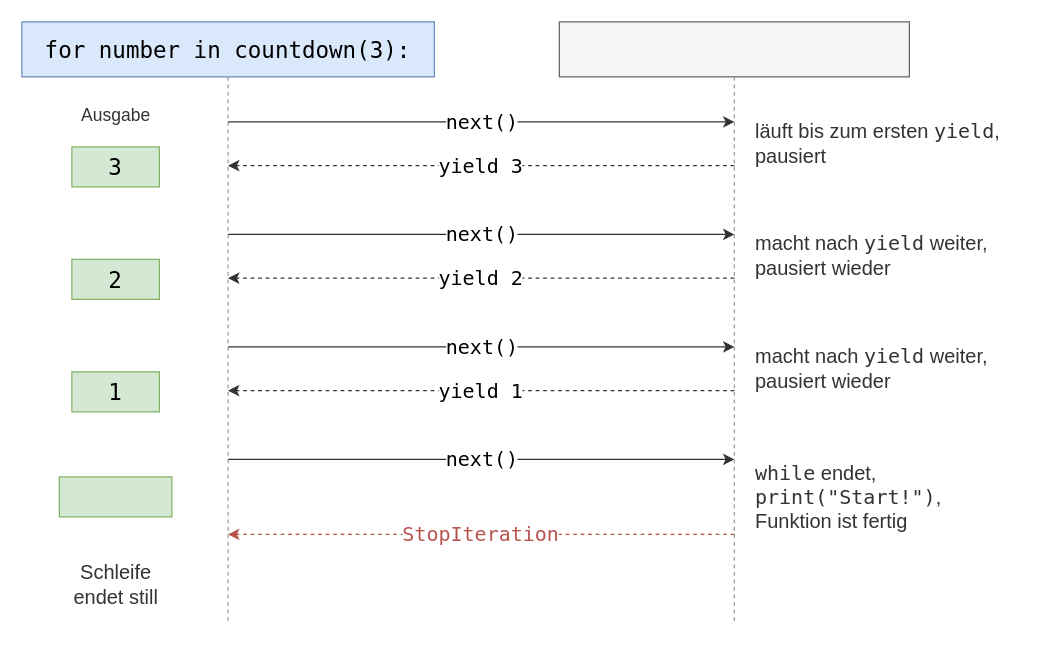
Image size: 1044x645. Some labels were removed from this diagram. Each missing label, with the centre of its shape:
"Generator countdown(3)" goes at [733,49].
"Start!" goes at [115,496].
